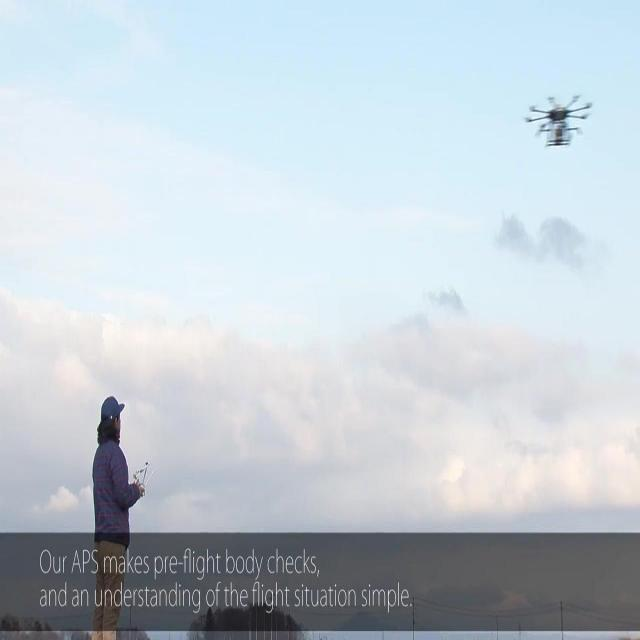UAV: (524, 95, 592, 147)
